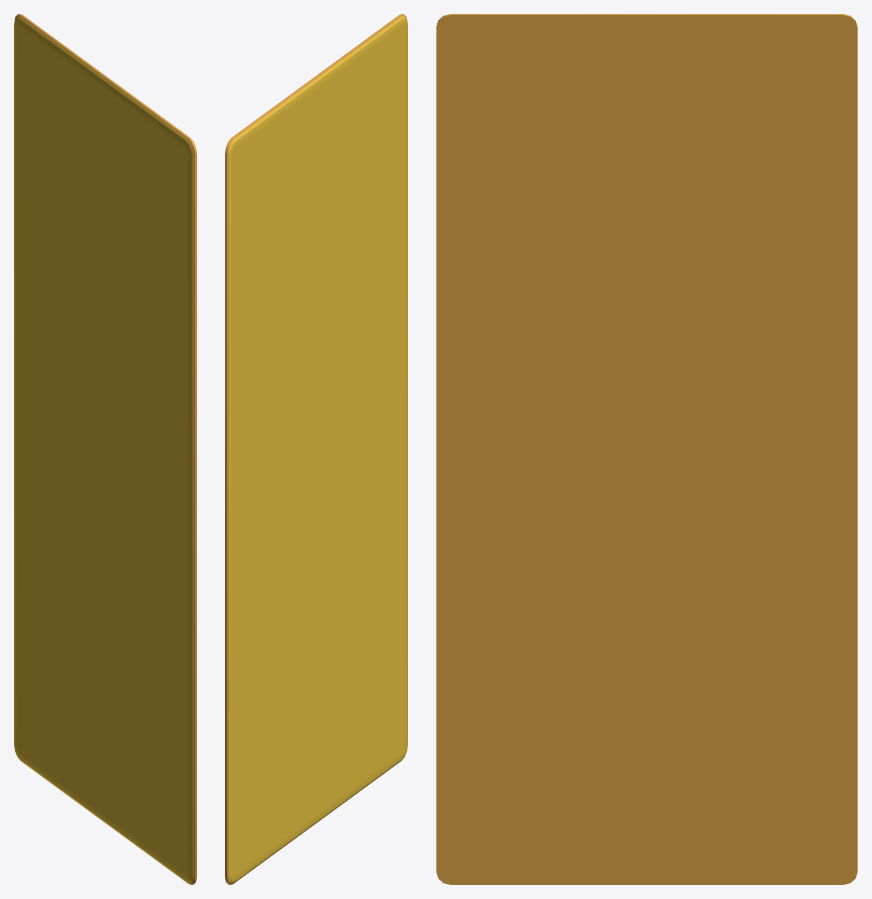
Rendered from carpet wall1 1.fbx.
3 views of the same model, side by side, from view 1: azimuth 30°, elevation 25°; view 2: azimuth 150°, elevation 25°; view 3: azimuth 270°, elevation 25° (orthographic). The views are drawn at different scales.
Visible parts, largest first — view 1: wall carpet; view 2: wall carpet; view 3: wall carpet.
Boxes of the visible parts, <box> form: wall carpet: <box>14,14,196,884</box>; wall carpet: <box>225,14,407,884</box>; wall carpet: <box>436,14,857,884</box>.
Bounding box in the file's own units: 0.9803 × 182 × 79.68.
